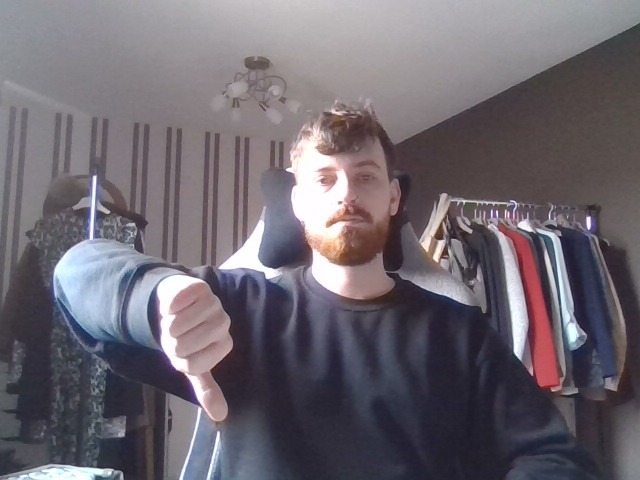Thumbs Down: (135, 260, 258, 426)
